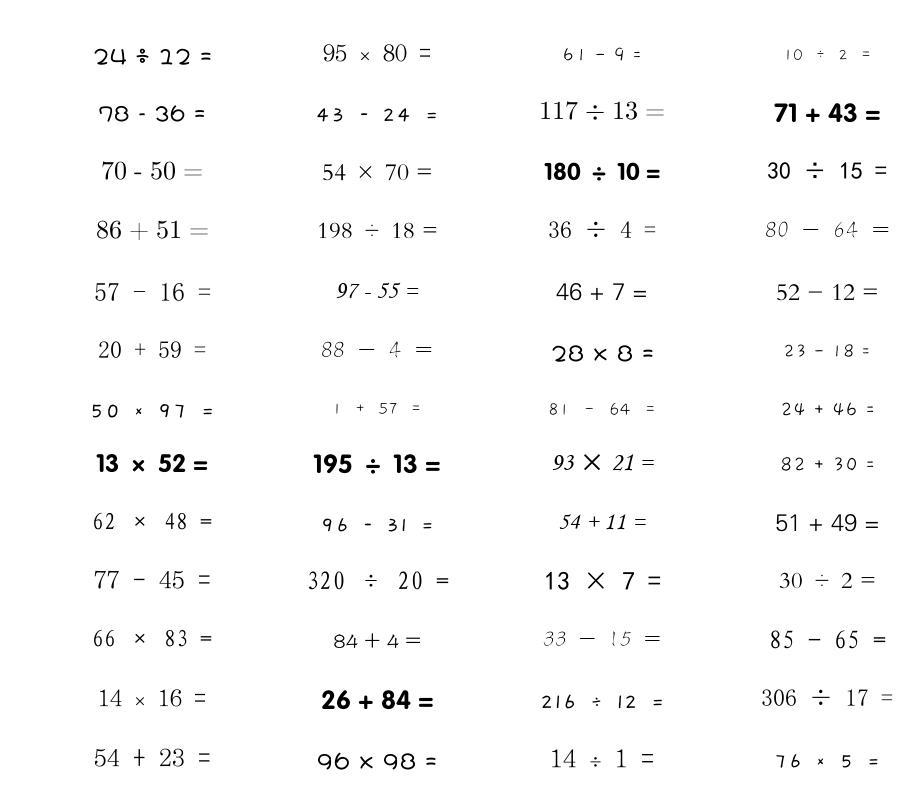MQ: (306, 571, 449, 590), (313, 454, 441, 474), (539, 101, 665, 120), (96, 220, 209, 241), (321, 690, 434, 710), (761, 689, 893, 706), (96, 453, 208, 473), (94, 282, 211, 301), (94, 570, 211, 589), (544, 571, 661, 590), (769, 630, 886, 649), (94, 748, 211, 767), (544, 162, 660, 181), (767, 162, 887, 180), (92, 512, 212, 530), (92, 629, 212, 647), (317, 752, 437, 770), (774, 103, 881, 123), (765, 221, 890, 238), (317, 222, 438, 239), (93, 48, 212, 65), (550, 749, 654, 768), (323, 44, 431, 62), (98, 689, 206, 707), (101, 161, 203, 180), (321, 341, 433, 358), (775, 514, 880, 532), (543, 631, 661, 647), (322, 164, 433, 181), (540, 694, 665, 709), (98, 105, 206, 122), (548, 221, 656, 238), (98, 341, 206, 358), (89, 404, 215, 418), (776, 284, 879, 301), (551, 345, 654, 362), (551, 454, 654, 471), (556, 282, 648, 301), (315, 108, 439, 122), (779, 572, 876, 589), (320, 518, 434, 532), (548, 402, 657, 416), (333, 632, 421, 649), (774, 754, 880, 768), (335, 282, 419, 299), (780, 402, 875, 417), (780, 457, 875, 472), (558, 514, 646, 530), (783, 344, 871, 358), (562, 47, 642, 62), (332, 402, 422, 415), (783, 49, 872, 61)
